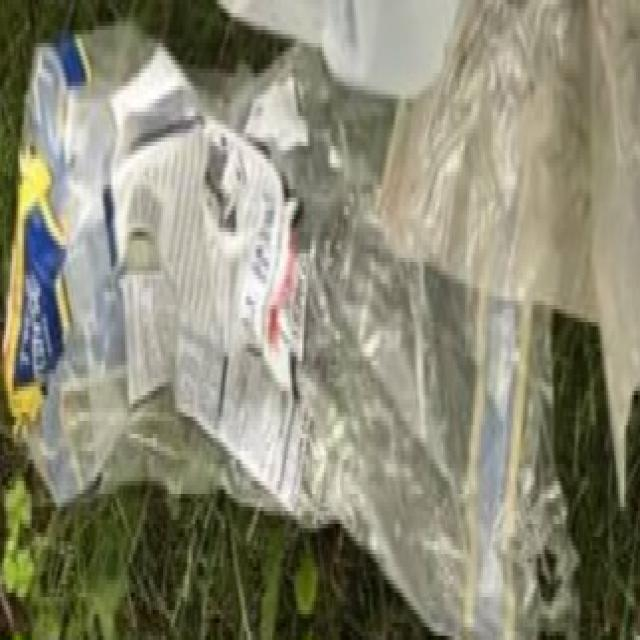plastic bag: (5, 0, 640, 598)
